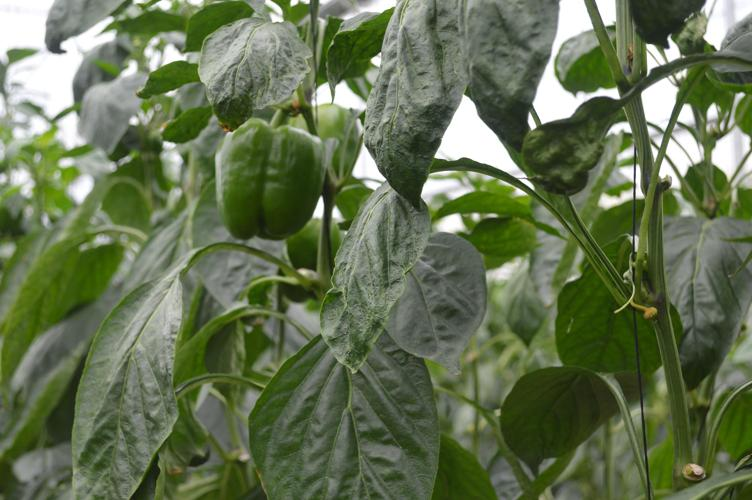BellPepper: (208, 108, 332, 256)
